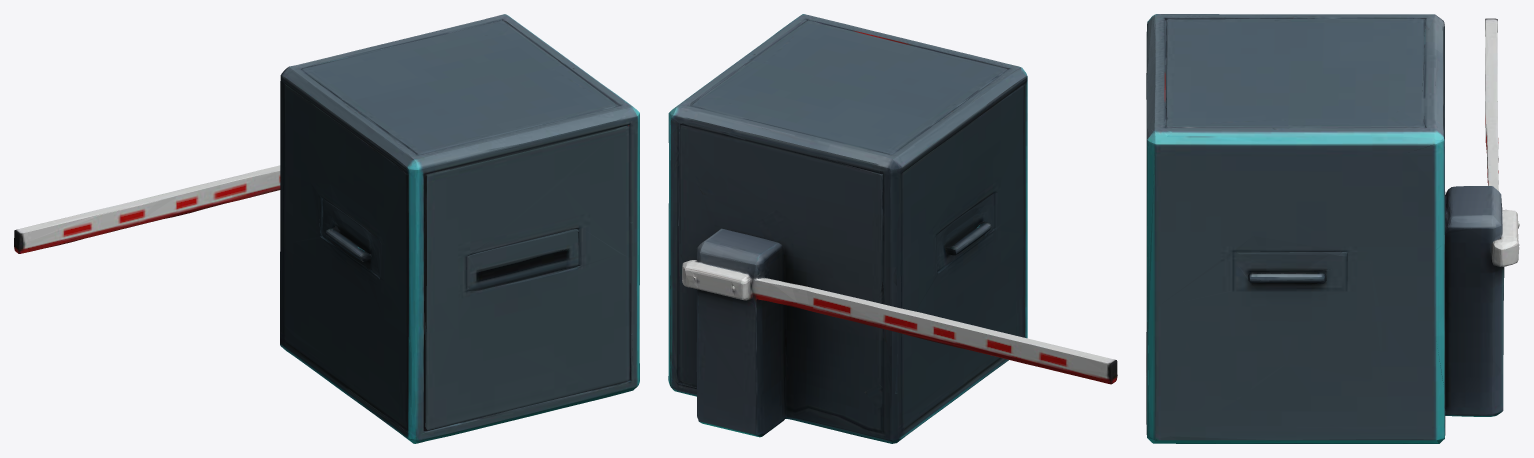
The model's file is portaria.glb.
The picture shows the model from 3 angles, left to right: view 1: azimuth 30°, elevation 25°; view 2: azimuth 150°, elevation 25°; view 3: azimuth 270°, elevation 25°; orthographic projection. The views are drawn at different scales.
Size of the model in its own units: 0.998 by 0.5678 by 0.6119.
1 material, 1 textured.
